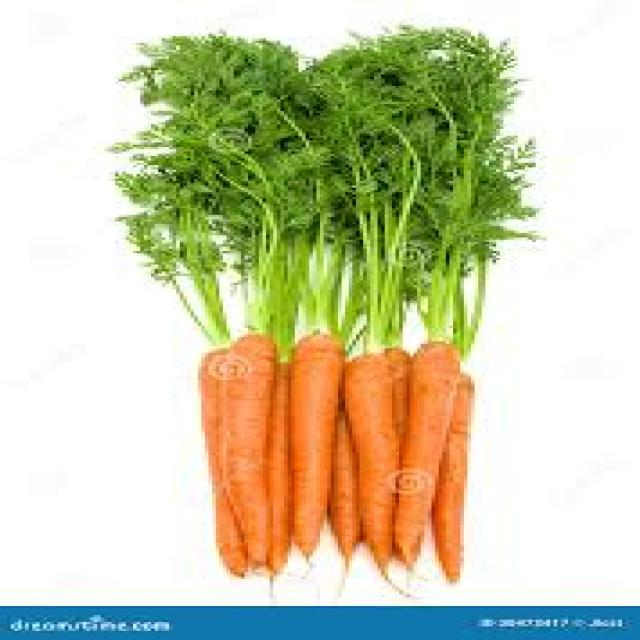Carrot: (290, 331, 346, 573)
